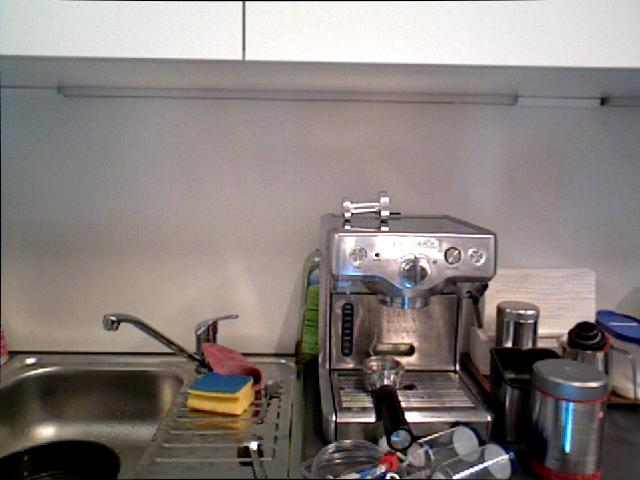bench: (300, 244, 328, 373)
couch: (0, 356, 193, 479)
toilet: (232, 428, 272, 480), (255, 376, 282, 427)
